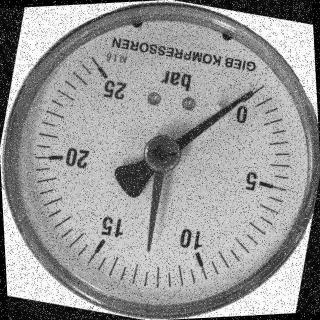gauge: (0, 0, 320, 320), (227, 74, 269, 118), (141, 133, 183, 175), (87, 57, 123, 97), (142, 240, 156, 256), (239, 88, 255, 102)
